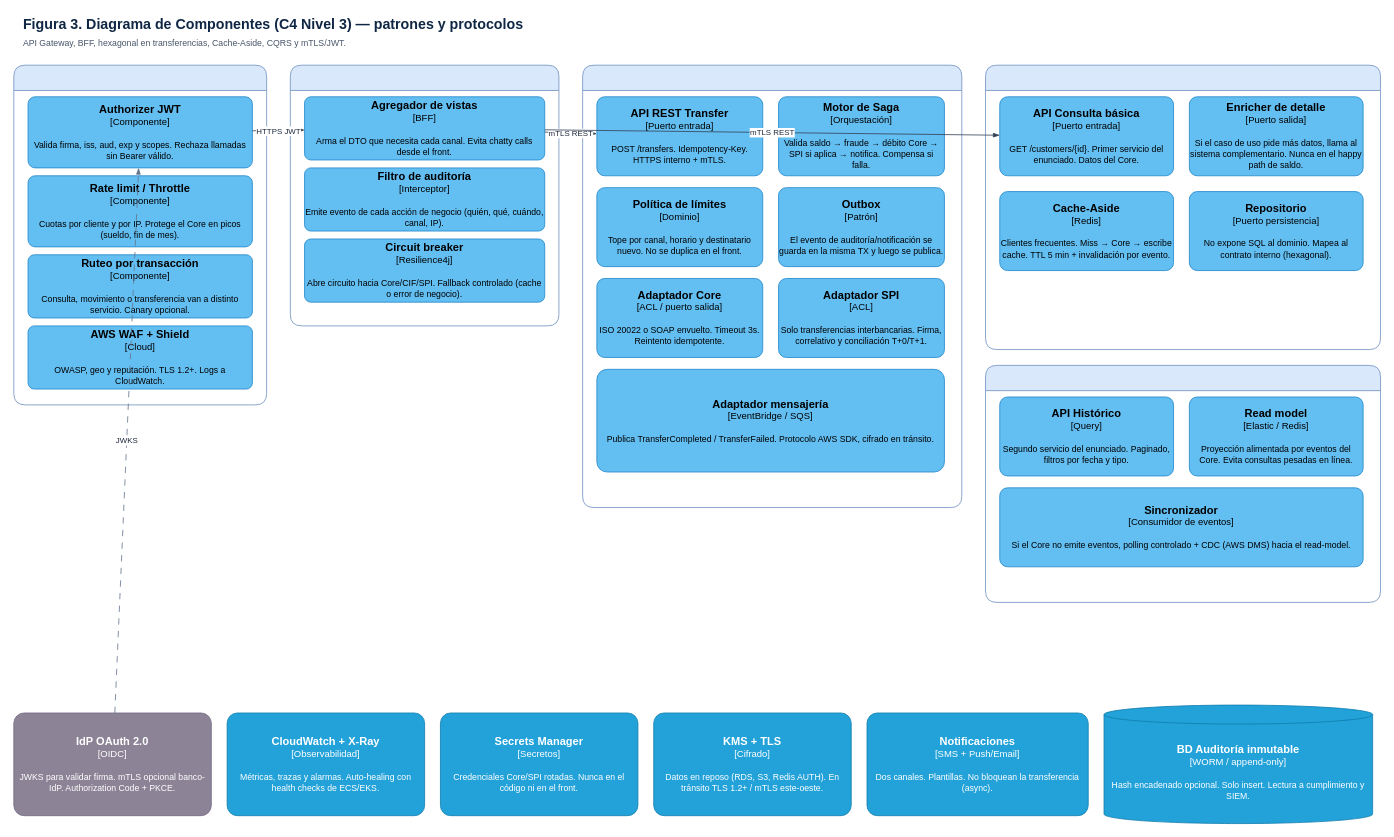
Image size: 1394x837. Some labels were removed from this diagram. Here are the shapes that lost their labels. From the top down, the box of each, then its label:
(290, 64, 559, 326): BFF (Web / Móvil)
(985, 64, 1381, 350): Servicio de Clientes + cache frecuente
(13, 64, 267, 405): Amazon API Gateway + WAF
(582, 64, 962, 508): Servicio de Transferencias (hexagonal)
(985, 365, 1381, 602): Movimientos (CQRS lectura)
